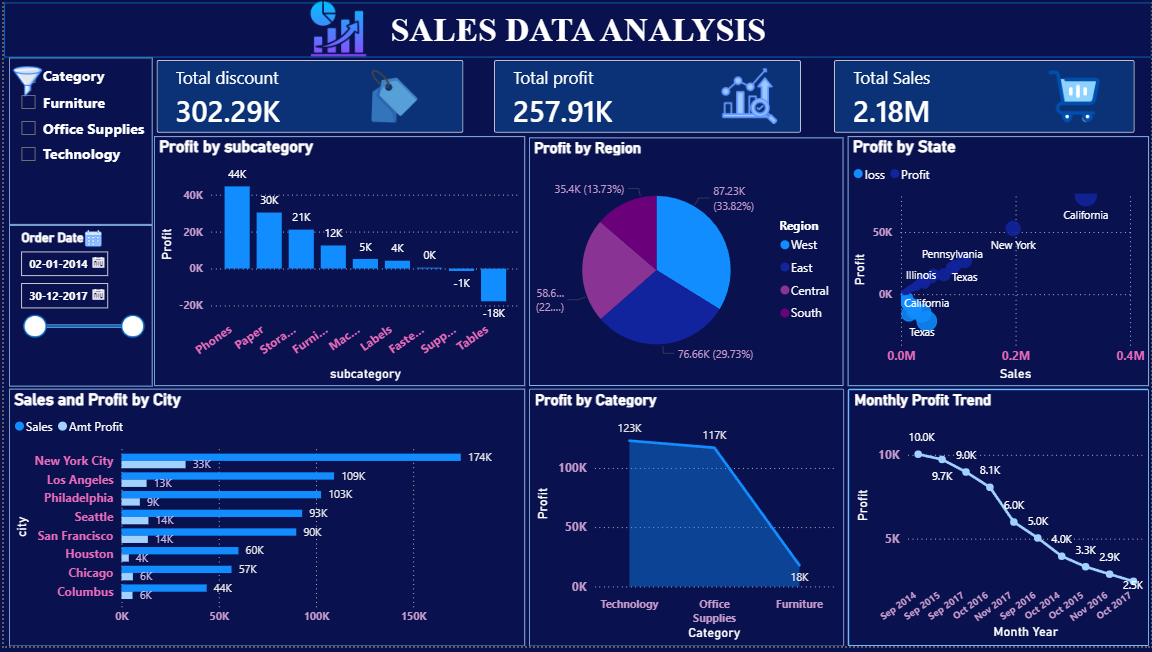

The dashboard page shown, as its layout file describes it:
{"tool":"powerbi","page":{"name":"Duplicate of Page 1","canvas":[1280,720],"ordinal":1},"visuals":[{"type":"slicer","fields":{"Values":["product.Category"]},"box":[5.6,64.1,160.2,186.7],"z":0},{"type":"shape","box":[0,2.8,1280.3,61.3],"z":1000},{"type":"columnChart","title":"Profit by subcategory","fields":{"Category":["product.subcategory"],"Y":["Project_Measures.Amt Profit"]},"box":[167.2,151.9,413.8,278.6],"z":2000},{"type":"clusteredBarChart","title":"Sales and Profit by City","fields":{"Category":["customer.City"],"Y":["Project_Measures.Sales","Project_Measures.Amt Profit"]},"box":[5.6,433.3,575.4,287],"z":3000},{"type":"areaChart","title":"Profit by Category","fields":{"Category":["product.Category"],"Y":["Project_Measures.Amt Profit"]},"box":[585.1,433.3,351.1,287],"z":4000},{"type":"slicer","fields":{"Values":["orders.Order Date"]},"box":[5.6,250.8,160.2,179.7],"z":5000},{"type":"lineChart","title":"Monthly Profit Trend","fields":{"Category":["orders.Month Year"],"Y":["Project_Measures.Amt Profit"]},"box":[940.4,433,337.2,287],"z":6000},{"type":"cardVisual","title":"Total Discount","fields":{"Data":["Project_Measures.Amt discount"]},"box":[153.3,50.2,376.2,115.6],"z":7000},{"type":"cardVisual","fields":{"Data":["Project_Measures.Total profit"]},"box":[529.4,50.2,376.2,115.6],"z":8000},{"type":"cardVisual","fields":{"Data":["Project_Measures.Total Sales"]},"box":[908.4,50.2,369.2,115.6],"z":9000},{"type":"image","box":[388.6,75.7,92.9,64.3],"z":10000},{"type":"image","box":[784.3,75.7,92.9,64.3],"z":11000},{"type":"image","box":[310.7,0,124,64.1],"z":12000},{"type":"image","box":[89.2,248,20.9,34.8],"z":13000},{"type":"image","box":[1147.1,75.7,92.9,64.3],"z":14000},{"type":"pieChart","title":"Profit by Region","fields":{"Category":["customer.Region"],"Y":["Project_Measures.Amt Profit"]},"box":[585.7,152.9,350,277.1],"z":15000},{"type":"image","box":[5.6,73.8,41.8,33.4],"z":16000},{"type":"scatterChart","title":"Profit by State","fields":{"Y":["Project_Measures.Amt Profit"],"Category":["customer.State"],"X":["Project_Measures.Sales"],"Series":["orders.Profitstatus"],"Size":["Project_Measures.Amt discount"]},"box":[940.4,151.9,337.2,278.6],"z":17000}]}

Visuals, with their boxes in screenshot pixels (x1, y1, x2, y2), scaled from the page's 1280x720 canvas onto the 1152x652 screenshot:
slicer - product.Category: box(5, 58, 149, 227)
shape: box(0, 3, 1151, 58)
"Profit by subcategory" columnChart: box(150, 138, 523, 390)
"Sales and Profit by City" clusteredBarChart: box(5, 392, 523, 651)
"Profit by Category" areaChart: box(527, 392, 843, 651)
slicer - orders.Order Date: box(5, 227, 149, 390)
"Monthly Profit Trend" lineChart: box(846, 392, 1150, 651)
"Total Discount" cardVisual: box(138, 45, 477, 150)
cardVisual - Project_Measures.Total profit: box(476, 45, 815, 150)
cardVisual - Project_Measures.Total Sales: box(818, 45, 1150, 150)
image: box(350, 69, 433, 127)
image: box(706, 69, 789, 127)
image: box(280, 0, 391, 58)
image: box(80, 225, 99, 256)
image: box(1032, 69, 1116, 127)
"Profit by Region" pieChart: box(527, 138, 842, 389)
image: box(5, 67, 43, 97)
"Profit by State" scatterChart: box(846, 138, 1150, 390)
